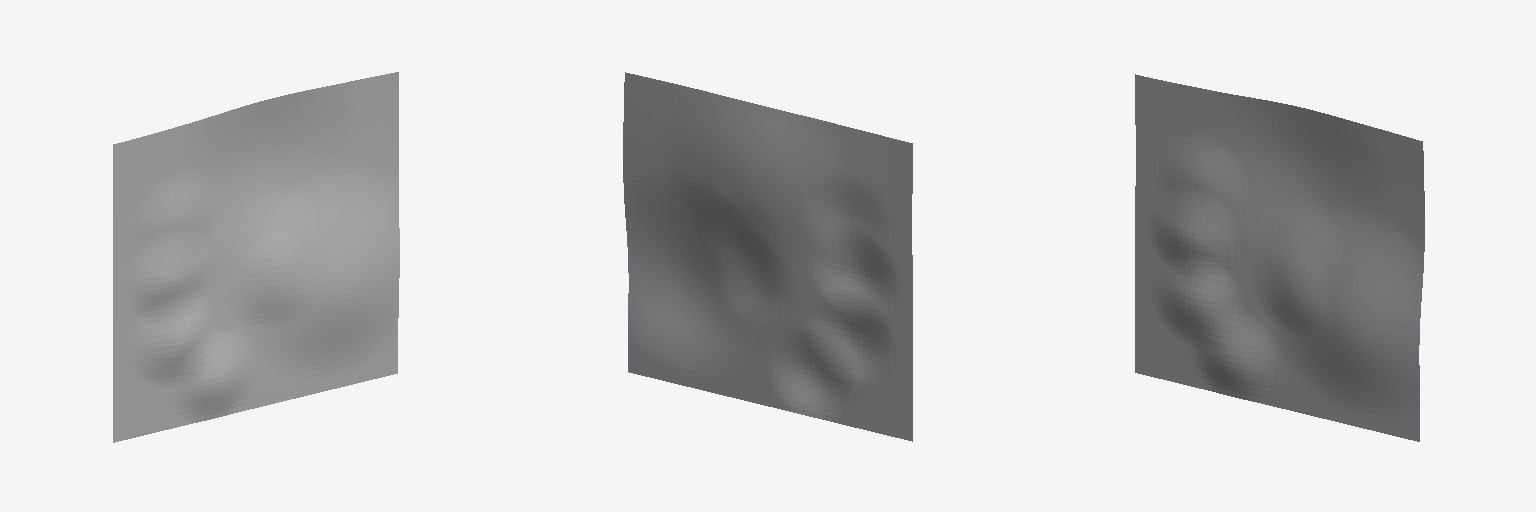
The picture shows the model from 3 angles: view 1: azimuth 30°, elevation 25°; view 2: azimuth 150°, elevation 25°; view 3: azimuth 330°, elevation 25°; orthographic projection.
Parts seen in each view (by area): view 1: rc_plane; view 2: rc_plane; view 3: rc_plane.
Part boxes in pixels (bbox=[...]): rc_plane: bbox=[113, 72, 399, 442]; rc_plane: bbox=[623, 72, 912, 441]; rc_plane: bbox=[1135, 74, 1424, 441].
Size of the model in its own units: 6.91 by 6.95 by 0.447.